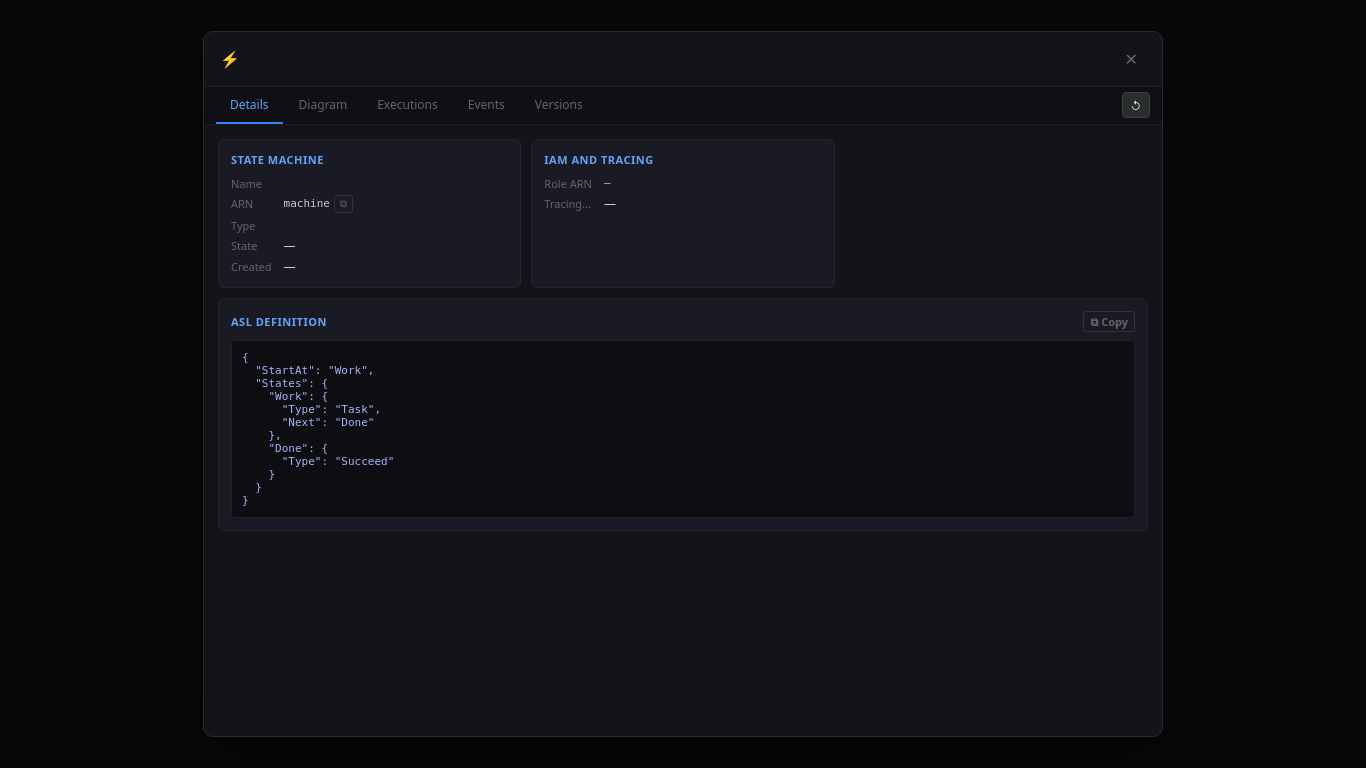
Test: Step Functions execution history › lists execution dates and durations, and shows a dash for unreadable cached dates
Click the button with class "sfnd-tab" showing "Executions": (408, 105) [363,87,452,124]
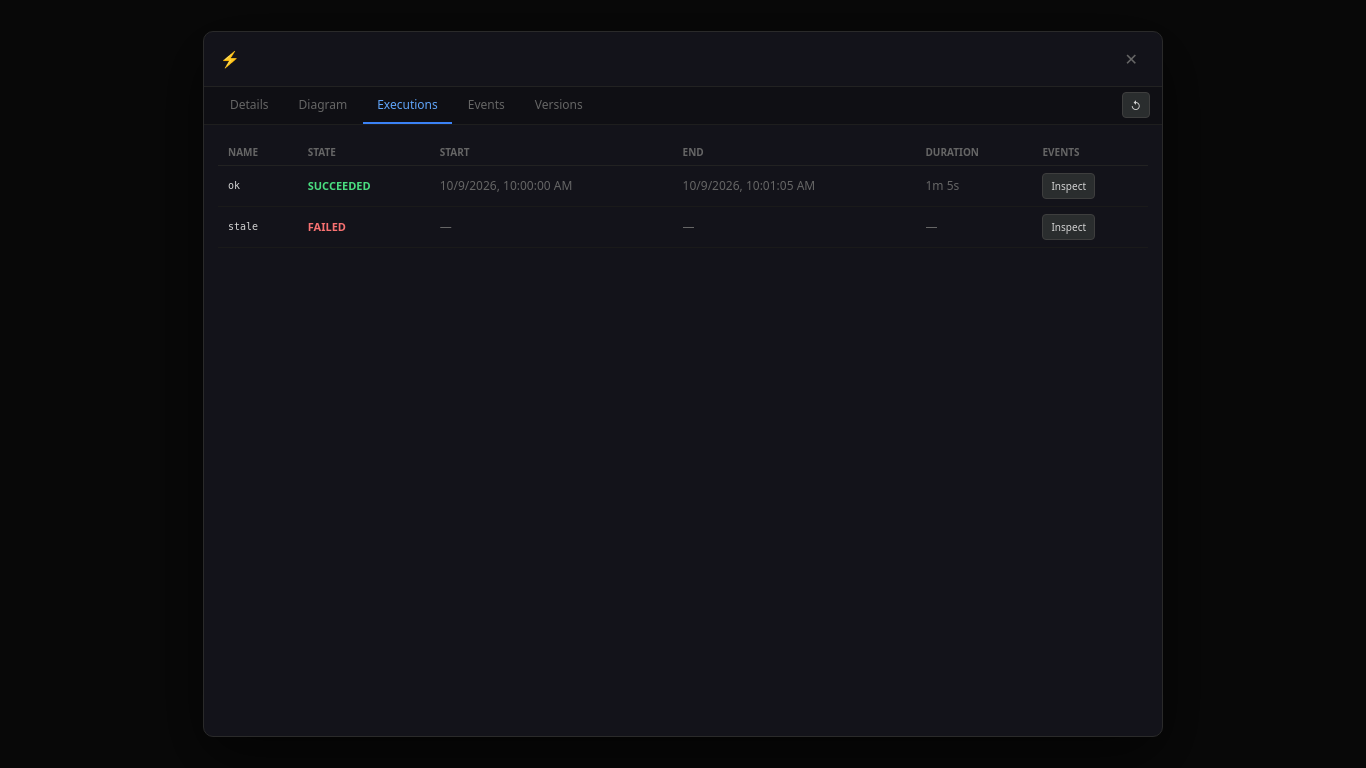
Check: the row with class "sfnd-exec-row" shows "—", box [440,218,452,235]
Check: the row with class "sfnd-exec-row" shows "2026", box [440,177,572,194]
Check: the row with class "sfnd-exec-row" shows "1m 5s", box [926,177,959,194]
